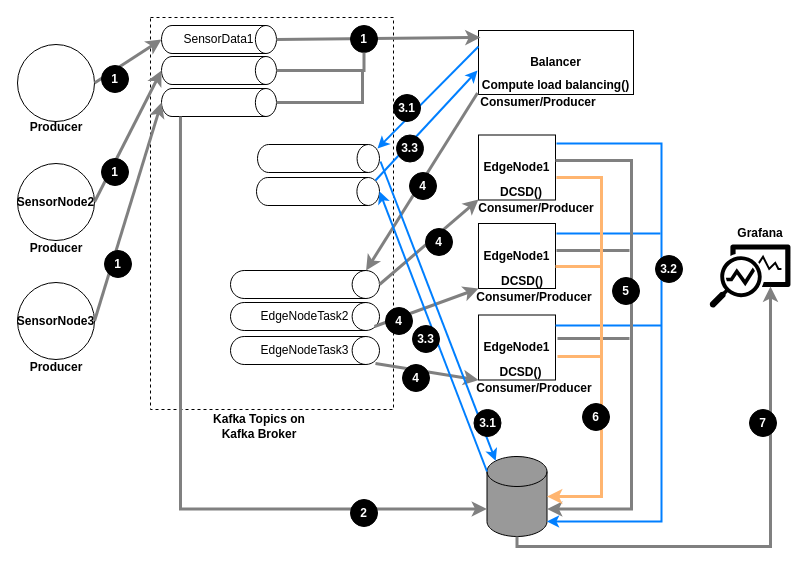
This 808x573 diagram has some shape labels left out. Here are the shapes that lost their labels. From the top down, the box of each, then its label:
(16, 44, 94, 122): SensorNode1
(160, 56, 276, 84): SensorData2
(160, 88, 276, 116): SensorData3
(256, 144, 380, 172): Requests
(256, 176, 380, 206): InfoEdgeNode
(230, 270, 380, 298): EdgeNodeTask1
(486, 456, 547, 536): InfluxDB
